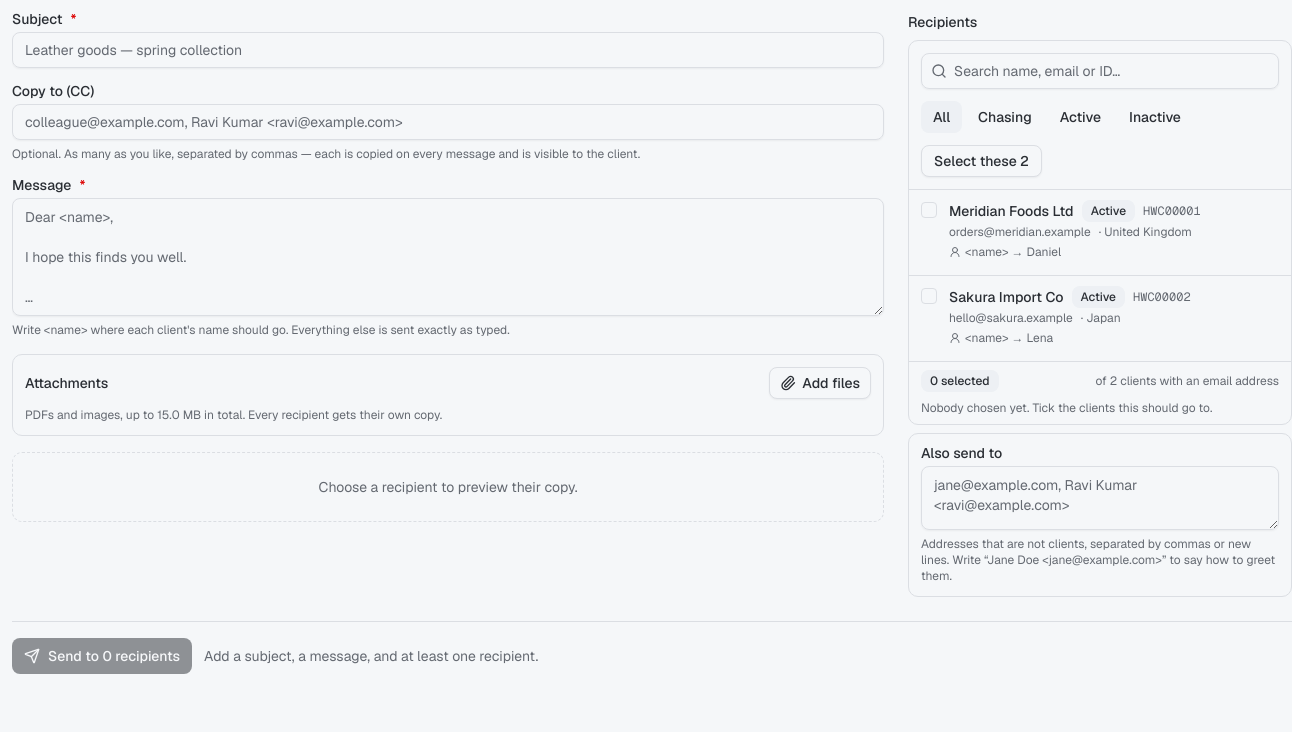
Scenario: cc › cannot be sent with a copy address that cannot be read
In the field labelled "Subject *": (448, 50) [12,32,884,68], type "Spring range"
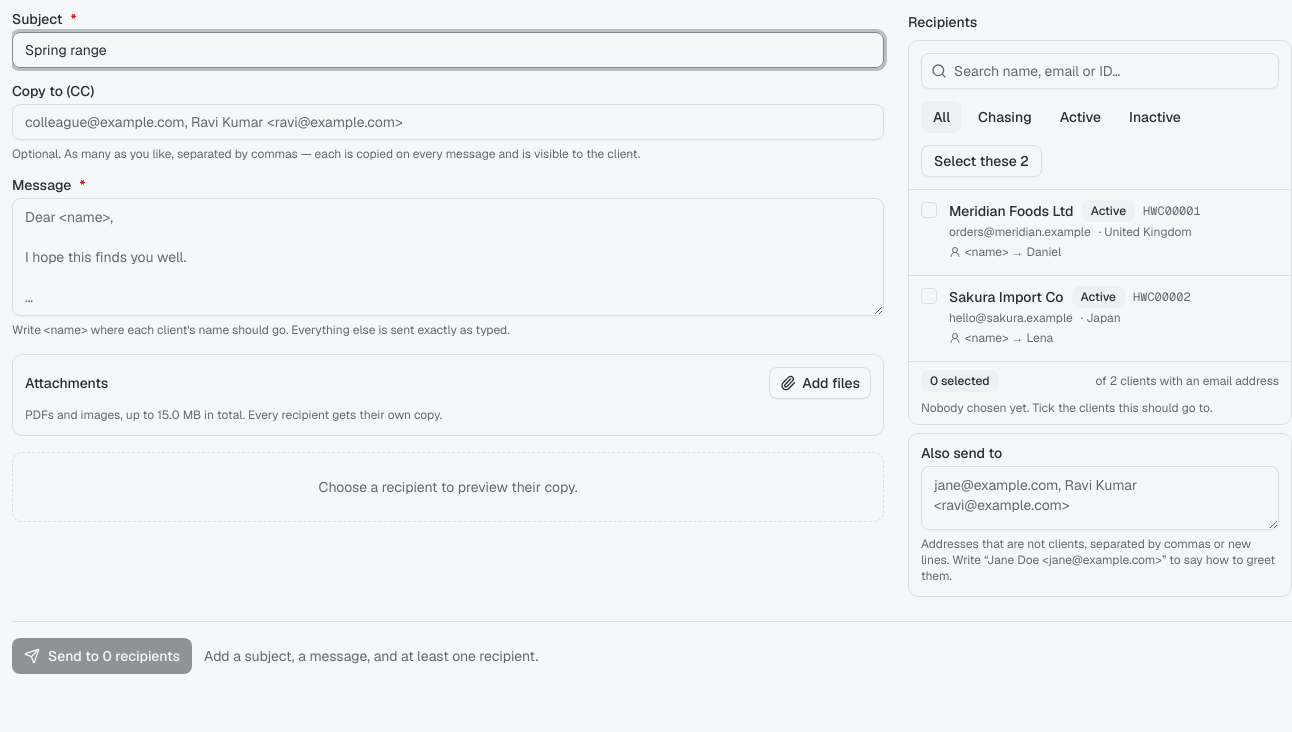
In the text box labelled "Message *": (448, 257) [12,198,884,316], type "Dear <name>,"
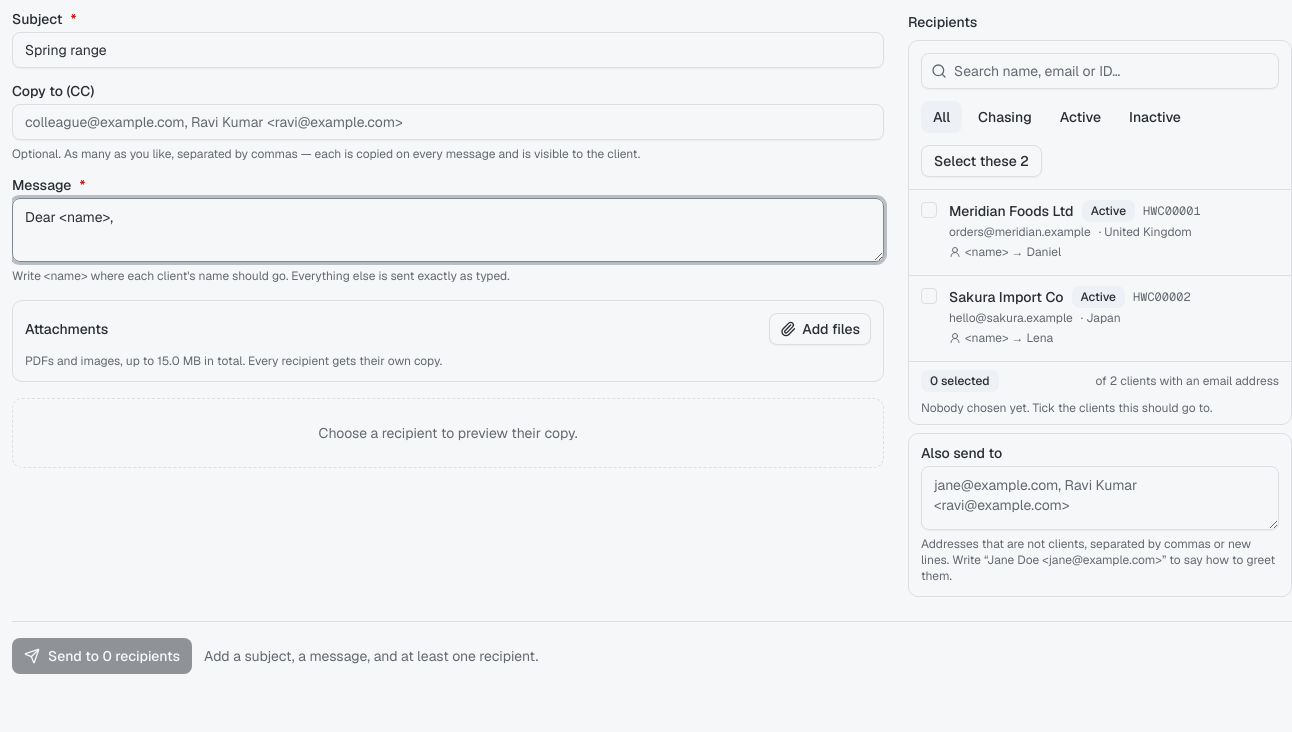
Click the checkbox named "Write to Meridian Foods Ltd": (929, 210) [921,202,937,218]
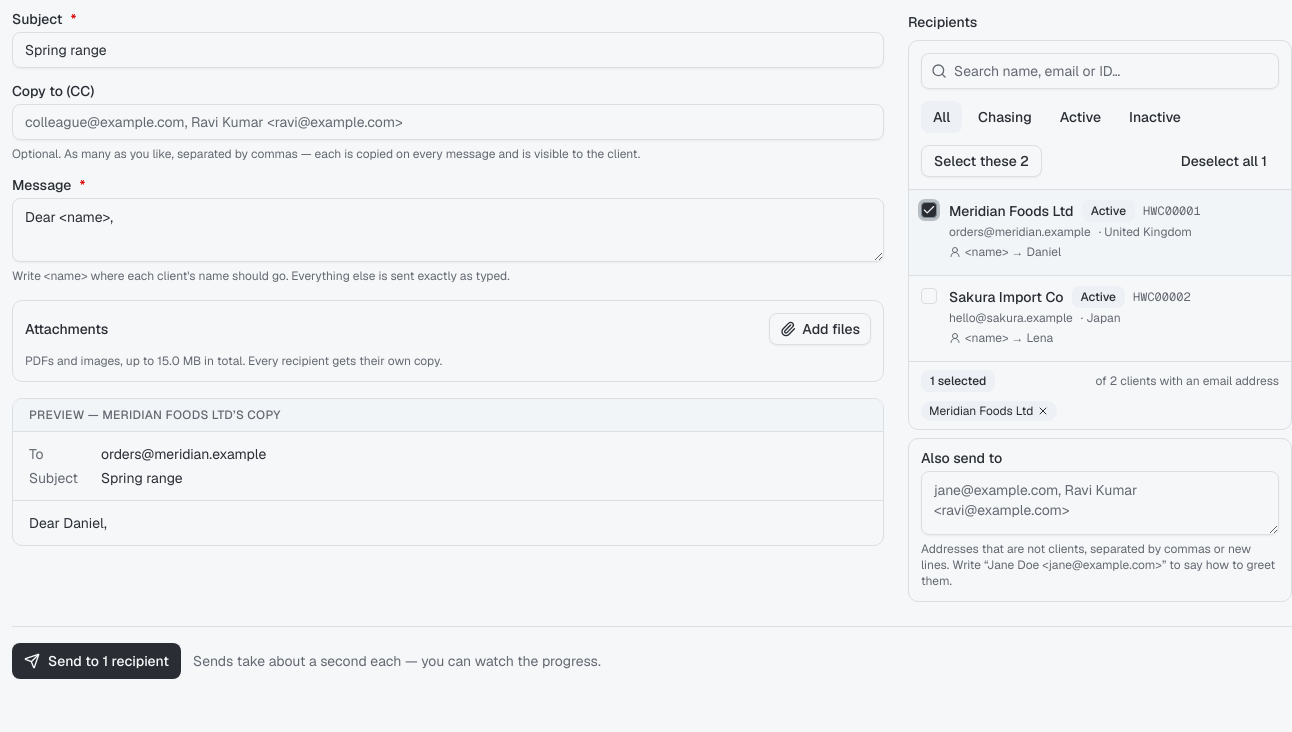
In the field labelled "Copy to (CC)": (448, 122) [12,104,884,140], type "not-an-address"
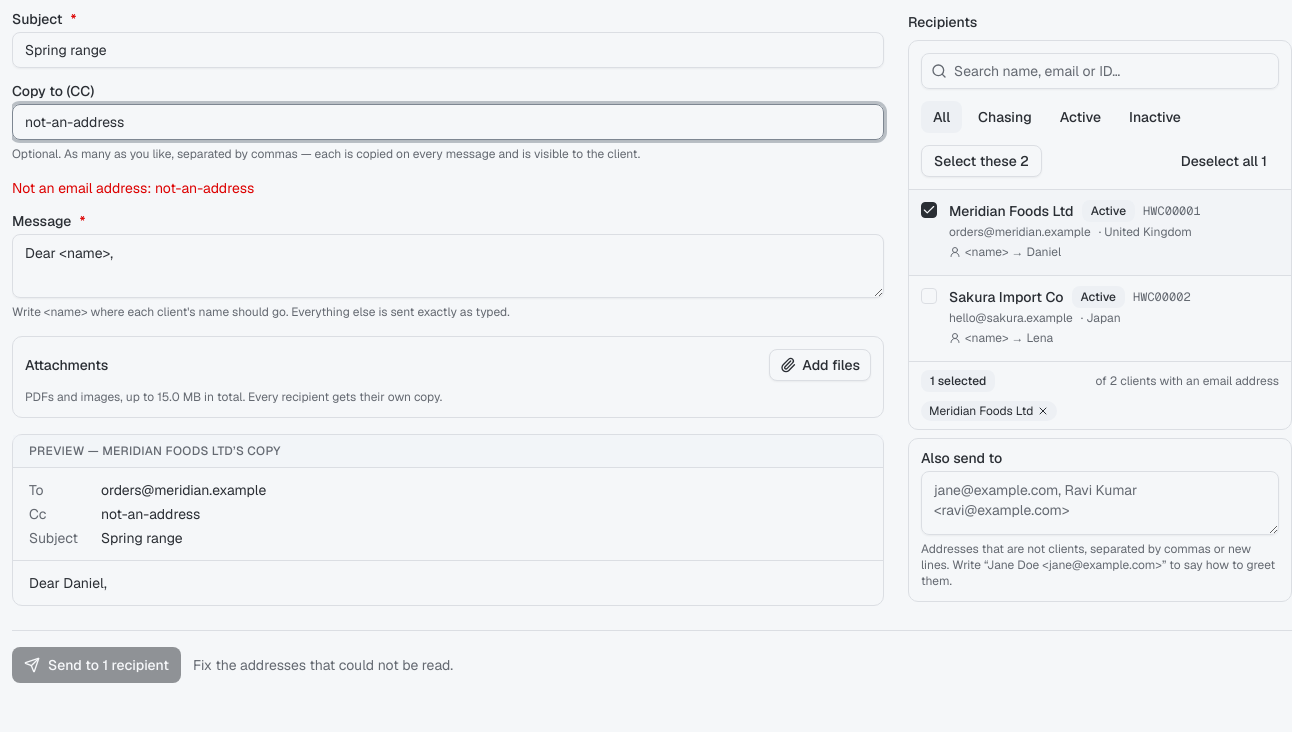
Now the button "Send to 1 recipient" is disabled, box [12,647,181,683]
